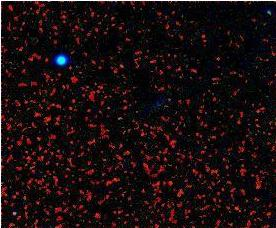star: (151, 82, 181, 112)
